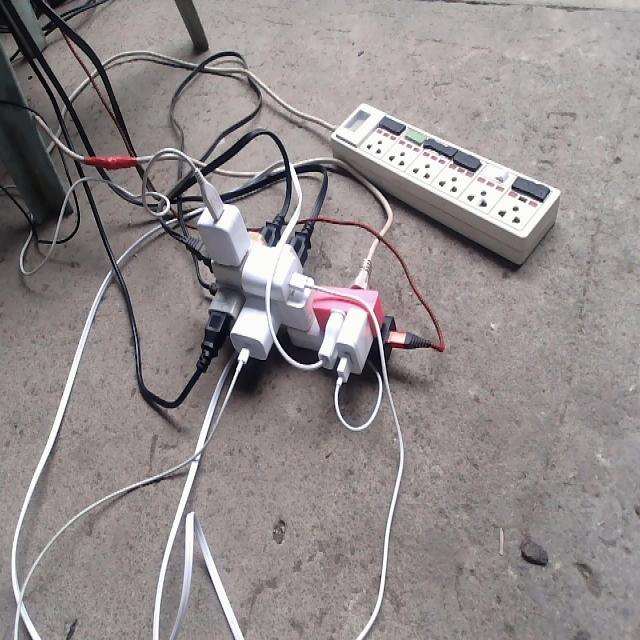-: (173, 166, 427, 430)
